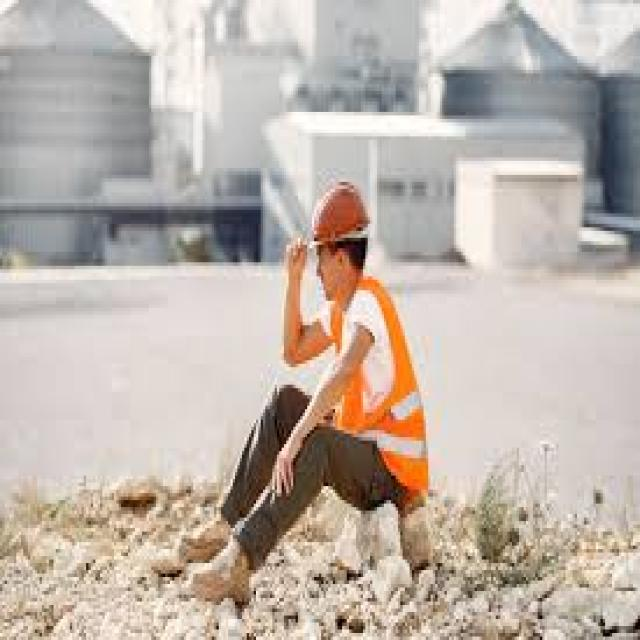Reflective-Jacket: (326, 276, 440, 507)
Safety-Helmet: (300, 168, 380, 259)
